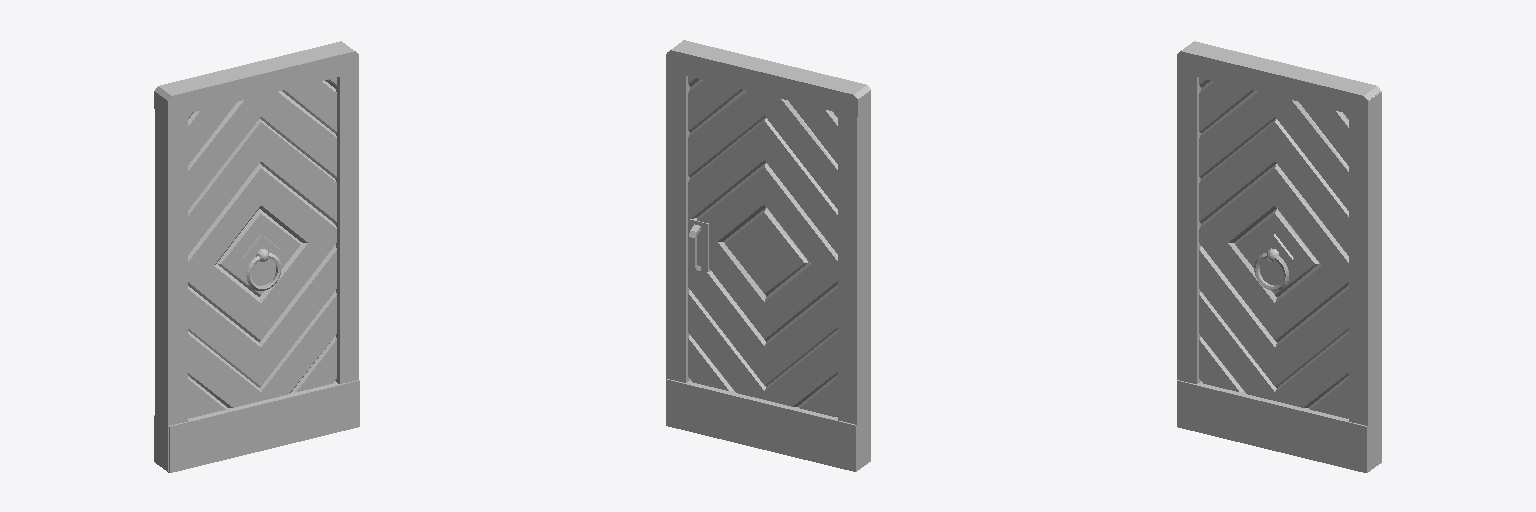
The model's file is Door_6_Flat.obj.
3 views of the same model, side by side, from view 1: azimuth 30°, elevation 25°; view 2: azimuth 150°, elevation 25°; view 3: azimuth 330°, elevation 25° (orthographic).
Visible parts, largest first — view 1: Door_6_Flat; view 2: Door_6_Flat; view 3: Door_6_Flat.
Boxes of the visible parts, x1,y1,x2,y2 form: Door_6_Flat: [154, 41, 359, 472]; Door_6_Flat: [666, 40, 870, 471]; Door_6_Flat: [1177, 41, 1381, 472].
Size of the model in its own units: 1.12 by 2.1 by 0.1995.